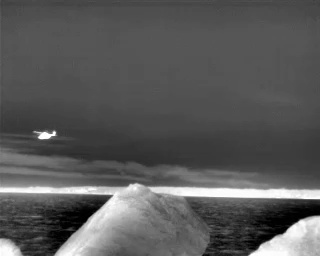HELICOPTER: (30, 125, 60, 144)
